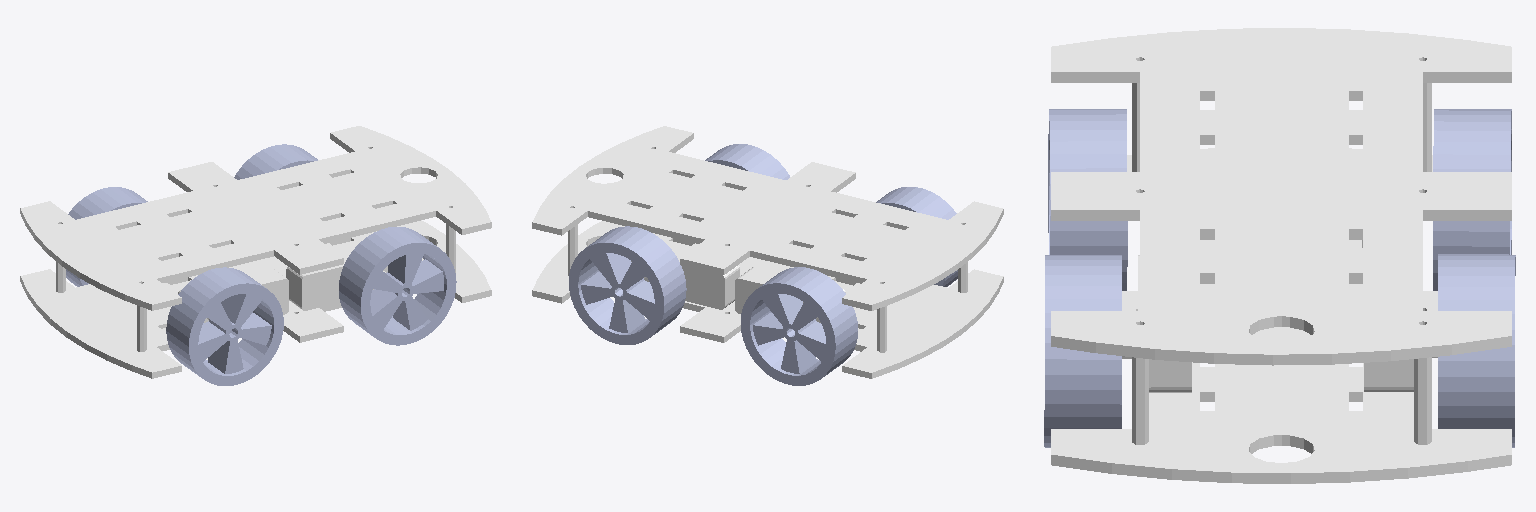
robot.urdf — fourwd_kit:
<robot
  name="fourwd_kit">
  
  <link
    name="base_link">
    <inertial>
      <origin
        xyz="0.00038287 -0.00027 -0.026745"
        rpy="0 0 0" />
      <mass
        value="0.3363" />
      <inertia
        ixx="0.00057304"
        ixy="1.6829E-06"
        ixz="7.047E-07"
        iyy="0.0016258"
        iyz="-5.2262E-07"
        izz="0.0019597" />
    </inertial>
    <visual>
      <origin
        xyz="0 0 0"
        rpy="0 0 0" />
      <geometry>
        <mesh
          filename="package://fourwd_kit/meshes/base_link.STL" />
      </geometry>
      <material
        name="">
        <color
          rgba="1 1 1 0" />
      </material>
    </visual>
    <collision>
      <origin
        xyz="0 0 0"
        rpy="0 0 0" />
      <geometry>
        <mesh
          filename="package://fourwd_kit/meshes/base_link.STL" />
      </geometry>
    </collision>
  </link>





  <link
    name="FrontLeftWheel">
    <inertial>
      <origin
        xyz="0.0087527 3.4694E-18 -1.0709E-05"
        rpy="0 0 -3.14" />
      <mass
        value="0.051031" />
      <inertia
        ixx="3.3073E-05"
        ixy="-7.0258E-22"
        ixz="-1.7277E-08"
        iyy="1.8952E-05"
        iyz="6.5635E-22"
        izz="1.8952E-05" />
    </inertial>
    <visual>
      <origin
        xyz="0 0 0"
        rpy="0 0 -3.14" />
      <geometry>
        <mesh
          filename="package://fourwd_kit/meshes/FrontLeftWheel.STL" />
      </geometry>
      <material
        name="">
        <color
          rgba="0.79216 0.81961 0.93333 1" />
      </material>
    </visual>
    <collision>
      <origin
        xyz="0 0 0"
        rpy="0 0 -3.14" />
      <geometry>
        <mesh
          filename="package://fourwd_kit/meshes/FrontLeftWheel.STL" />
      </geometry>
    </collision>
  </link>
  <joint
    name="FrontLeftWheelJoint"
    type="continuous">
    <origin
      xyz="0.058926 0.056774 -0.0325"
      rpy="1.5708 -3.1329E-17 -1.5708" />
    <parent
      link="base_link" />
    <child
      link="FrontLeftWheel" />
    <axis
      xyz="-1 0 0.0012235" />
  </joint>



  <link
    name="FrontRightWheel">
    <inertial>
      <origin
        xyz="-0.0073659 1.3878E-17 1.7387E-05"
        rpy="0 0 -3.14" />
      <mass
        value="0.051031" />
      <inertia
        ixx="3.3073E-05"
        ixy="-4.4954E-22"
        ixz="-3.3333E-08"
        iyy="1.8952E-05"
        iyz="1.3666E-21"
        izz="1.8952E-05" />
    </inertial>
    <visual>
      <origin
        xyz="0 0 0"
        rpy="0 0 -3.14" />
      <geometry>
        <mesh
          filename="package://fourwd_kit/meshes/FrontRightWheel.STL" />
      </geometry>
      <material
        name="">
        <color
          rgba="0.79216 0.81961 0.93333 1" />
      </material>
    </visual>
    <collision>
      <origin
        xyz="0 0 0"
        rpy="0 0 -3.14" />
      <geometry>
        <mesh
          filename="package://fourwd_kit/meshes/FrontRightWheel.STL" />
      </geometry>
    </collision>
  </link>
  <joint
    name="FrontRightWheelJoint"
    type="continuous">
    <origin
      xyz="0.05916 -0.059242 -0.0325"
      rpy="1.5708 -3.1329E-17 -1.5708" />
    <parent
      link="base_link" />
    <child
      link="FrontRightWheel" />
    <axis
      xyz="-1 0 0.0023605" />
  </joint>





  <link
    name="BackLeftWheel">
    <inertial>
      <origin
        xyz="0.0081291 8.6736E-18 -7.7011E-05"
        rpy="0 0 -3.14" />
      <mass
        value="0.051031" />
      <inertia
        ixx="3.3072E-05"
        ixy="-6.8518E-22"
        ixz="-1.3376E-07"
        iyy="1.8952E-05"
        iyz="4.2517E-22"
        izz="1.8953E-05" />
    </inertial>
    <visual>
      <origin
        xyz="0 0 0"
        rpy="0 0 -3.14" />
      <geometry>
        <mesh
          filename="package://fourwd_kit/meshes/BackLeftWheel.STL" />
      </geometry>
      <material
        name="">
        <color
          rgba="0.79216 0.81961 0.93333 1" />
      </material>
    </visual>
    <collision>
      <origin
        xyz="0 0 0"
        rpy="0 0 -3.14" />
      <geometry>
        <mesh
          filename="package://fourwd_kit/meshes/BackLeftWheel.STL" />
      </geometry>
    </collision>
  </link>
  <joint
    name="BackLeftWheelJoint"
    type="continuous">
    <origin
      xyz="-0.056827 0.055992 -0.0325"
      rpy="1.5708 -3.1329E-17 -1.5708" />
    <parent
      link="base_link" />
    <child
      link="BackLeftWheel" />
    <axis
      xyz="-0.99996 0 0.009473" />
  </joint>




  <link
    name="BackRightWheel">
    <inertial>
      <origin
        xyz="-0.0082763 -3.4694E-18 -7.8759E-05"
        rpy="0 0 -3.14" />
      <mass
        value="0.051031" />
      <inertia
        ixx="3.3072E-05"
        ixy="-1.3343E-21"
        ixz="1.3437E-07"
        iyy="1.8952E-05"
        iyz="1.2506E-21"
        izz="1.8953E-05" />
    </inertial>
    <visual>
      <origin
        xyz="0 0 0"
        rpy="0 0 -3.14" />
      <geometry>
        <mesh
          filename="package://fourwd_kit/meshes/BackRightWheel.STL" />
      </geometry>
      <material
        name="">
        <color
          rgba="0.79216 0.81961 0.93333 1" />
      </material>
    </visual>
    <collision>
      <origin
        xyz="0 0 0"
        rpy="0 0 -3.14" />
      <geometry>
        <mesh
          filename="package://fourwd_kit/meshes/BackRightWheel.STL" />
      </geometry>
    </collision>
  </link>
  <joint
    name="BackRightWheelJoint"
    type="continuous">
    <origin
      xyz="-0.057037 -0.05681 -0.0325"
      rpy="1.5708 -3.1329E-17 -1.5708" />
    <parent
      link="base_link" />
    <child
      link="BackRightWheel" />
    <axis
      xyz="-0.99995 0 -0.0095158" />
  </joint>



<link name="laser_scanner">
        <inertial>
        <origin
            xyz="0 0 0"
            rpy="0 0 0" />
        <mass
            value="0.05" />
        <inertia
            ixx="0"
            ixy="0"
            ixz="0"
            iyy="0"
            iyz="0"
            izz="0" />
        </inertial>
    </link>
    <!-- Laser Scanner Joint to connect the laser scanner to the chassis -->
    <joint name="laser_scanner_joint"
        type="fixed">
        <origin
        xyz="0 0 0.1"
        rpy="0 0 0" />
        <parent
        link="base_link" />
        <child
        link="laser_scanner" />
        <axis
        xyz="0 0 0" />
</joint>


<!-- Loading gazebo sensor (laser scanner) plugin and connecting it to the laser scanner link -->
    <gazebo reference="laser_scanner">
      <sensor type="ray" name="laser_scanner_2d">
        <pose>0 0 0 0 0 0</pose>
        <visualize>false</visualize>
        <update_rate>40</update_rate>
        <ray>
          <scan>
            <horizontal>
              <samples>720</samples>
              <resolution>1</resolution>
              <min_angle>-3.14</min_angle>
              <max_angle>3.14</max_angle>
            </horizontal>
          </scan>
          <range>
            <min>0.10</min>
            <max>30.0</max>
            <resolution>0.01</resolution>
          </range>
          <noise>
            <type>gaussian</type>
            <!-- Noise parameters based on published spec for Hokuyo laser
                 achieving "+-30mm" accuracy at range < 10m.  A mean of 0.0m and
                 stddev of 0.01m will put 99.7% of samples within 0.03m of the true
                 reading. -->
            <mean>0.0</mean>
            <stddev>0.0</stddev>
          </noise>
        </ray>
        <plugin name="gazebo_ros_head_hokuyo_controller" filename="libgazebo_ros_laser.so">
          <topicName>scan</topicName>
          <frameName>laser_scanner</frameName>
        </plugin>
      </sensor>
</gazebo>







<gazebo>
  <plugin name="skid_steer_drive_controller" filename="libgazebo_ros_skid_steer_drive.so">
    <updateRate>100.0</updateRate>
    <robotNamespace>/</robotNamespace>
    <leftFrontJoint>FrontLeftWheelJoint</leftFrontJoint>
    <rightFrontJoint>FrontRightWheelJoint</rightFrontJoint>
    <leftRearJoint>BackLeftWheelJoint</leftRearJoint>
    <rightRearJoint>BackRightWheelJoint</rightRearJoint>
    <wheelSeparation>0.4</wheelSeparation>
    <wheelDiameter>0.215</wheelDiameter>
    <robotBaseFrame>base_link</robotBaseFrame>
    <torque>20</torque>
    <topicName>cmd_vel</topicName>
    <broadcastTF>true</broadcastTF>
  </plugin>
</gazebo>




</robot>

--- Render facts (derived) ---
Views: 3 orthographic renders of the robot side by side, from view 1: azimuth 30°, elevation 25°; view 2: azimuth 150°, elevation 25°; view 3: azimuth 270°, elevation 25°.
Model fourwd_kit with 6 links and 5 joints (4 continuous, 1 fixed), rooted at base_link, posed every joint at zero.
Visible links, largest first — view 1: base_link, FrontRightWheel, BackRightWheel, BackLeftWheel, FrontLeftWheel; view 2: base_link, FrontLeftWheel, BackLeftWheel, BackRightWheel, FrontRightWheel; view 3: base_link, FrontRightWheel, FrontLeftWheel, BackRightWheel, BackLeftWheel.
Link boxes in pixels (<box>): base_link: <box>20,126,491,378</box>; FrontRightWheel: <box>339,227,456,345</box>; BackRightWheel: <box>166,267,283,385</box>; BackLeftWheel: <box>66,187,147,286</box>; FrontLeftWheel: <box>234,144,317,179</box>; base_link: <box>532,126,1003,378</box>; FrontLeftWheel: <box>569,226,686,344</box>; BackLeftWheel: <box>741,267,857,385</box>; BackRightWheel: <box>876,187,957,286</box>; FrontRightWheel: <box>705,144,789,179</box>; base_link: <box>1051,28,1511,483</box>; FrontRightWheel: <box>1044,255,1121,447</box>; FrontLeftWheel: <box>1438,254,1515,447</box>; BackRightWheel: <box>1048,109,1127,290</box>; BackLeftWheel: <box>1433,109,1511,290</box>.
Size in the robot's own frame: 0.26 by 0.1583 by 0.0649 metres.
5 mesh visuals loaded from 5 distinct referenced files (5 binary STL).
